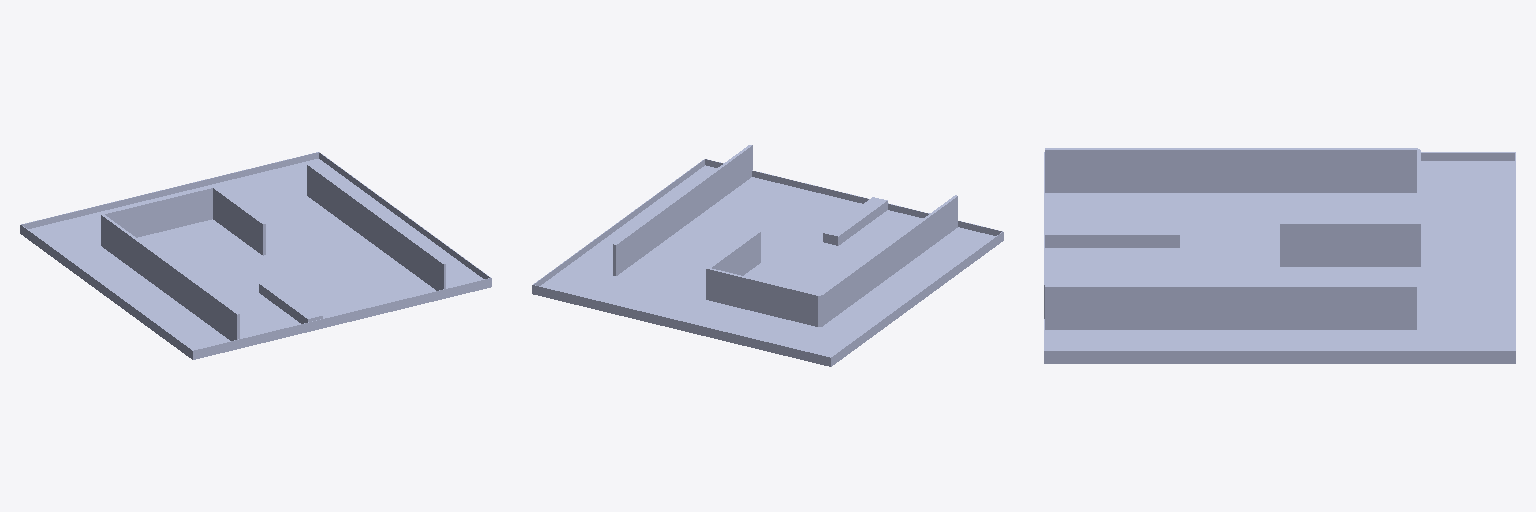
robot.urdf — arena:
<?xml version="1.0" encoding="utf-8"?>
<!-- This URDF was automatically created by SolidWorks to URDF Exporter! Originally created by [author] ([email redacted]) 
     Commit Version: 1.6.0-4-g7f85cfe  Build Version: 1.6.7995.38578
     For more information, please see http://wiki.ros.org/sw_urdf_exporter -->
<robot
  name="arena">
  <link
    name="body">
    <inertial>
      <origin
        xyz="-0.0687878603923006 0.154809753511671 0.126805279420118"
        rpy="0 0 0" />
      <mass
        value="12835.4727764877" />
      <inertia
        ixx="106237.411559678"
        ixy="259.412378794607"
        ixz="-394.162282740442"
        iyy="211905.808163833"
        iyz="-191.356583530456"
        izz="107185.43843331" />
    </inertial>
    <visual>
      <origin
        xyz="0 0 0"
        rpy="0 0 0" />
      <geometry>
        <mesh
          filename="package://arena/meshes/body.STL" />
      </geometry>
      <material
        name="">
        <color
          rgba="0.792156862745098 0.819607843137255 0.933333333333333 1" />
      </material>
    </visual>
    <collision>
      <origin
        xyz="0 0 0"
        rpy="0 0 0" />
      <geometry>
        <mesh
          filename="package://arena/meshes/body.STL" />
      </geometry>
    </collision>
  </link>
</robot>

--- Render facts (derived) ---
3 views of the same robot in one strip: view 1: azimuth 30°, elevation 25°; view 2: azimuth 150°, elevation 25°; view 3: azimuth 270°, elevation 25° (orthographic).
Robot: arena — 1 links, 0 joints (none); root link body; default pose: every joint at zero.
Links seen in each view (by area): view 1: body; view 2: body; view 3: body.
Link boxes in pixels (<box>): body: <box>20,152,491,359</box>; body: <box>532,145,1003,366</box>; body: <box>1044,148,1515,363</box>.
Size in the robot's own frame: 10 by 10 by 1.1 metres.
1 mesh visuals loaded from 1 distinct referenced files (1 binary STL).